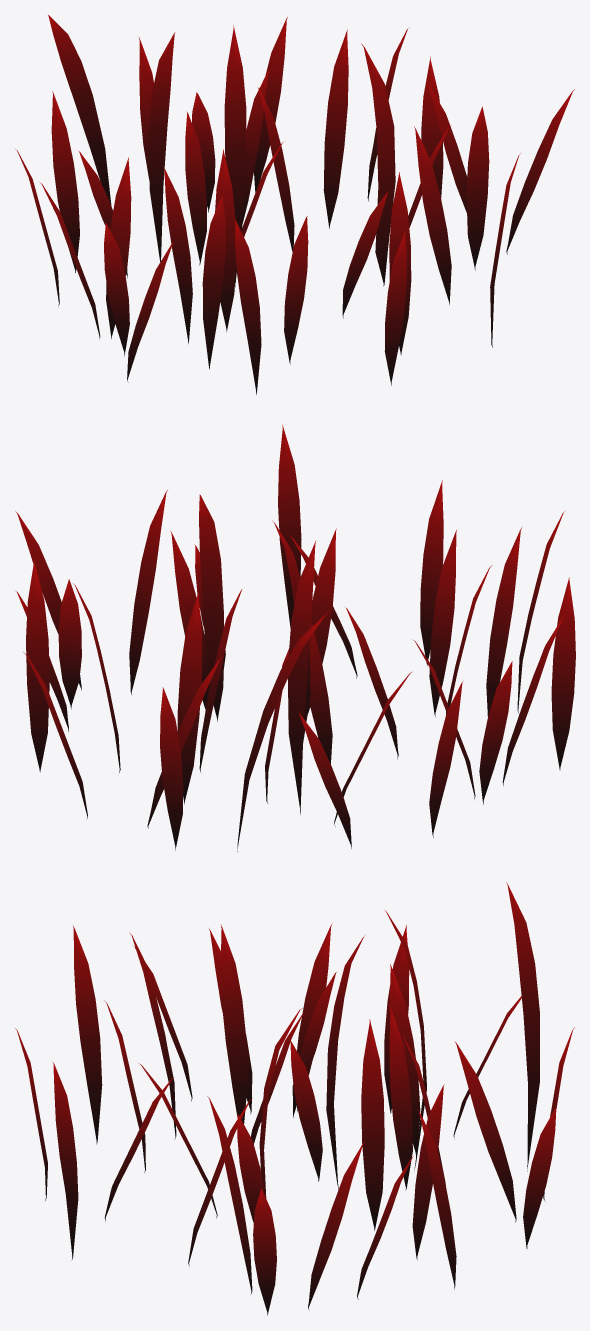
The model's file is Grass.fbx.
3 views of the same model, one above another, from view 1: azimuth 30°, elevation 25°; view 2: azimuth 150°, elevation 25°; view 3: azimuth 270°, elevation 25° (orthographic). The views are drawn at different scales.
Parts seen in each view (by area): view 1: Grass; view 2: Grass; view 3: Grass.
Part boxes in pixels (box(x1,y1,x2,y2)): Grass: box(15, 15, 574, 394); Grass: box(15, 425, 575, 851); Grass: box(15, 882, 574, 1315).
Size of the model in its own units: 1.42 by 0.6753 by 1.3.
